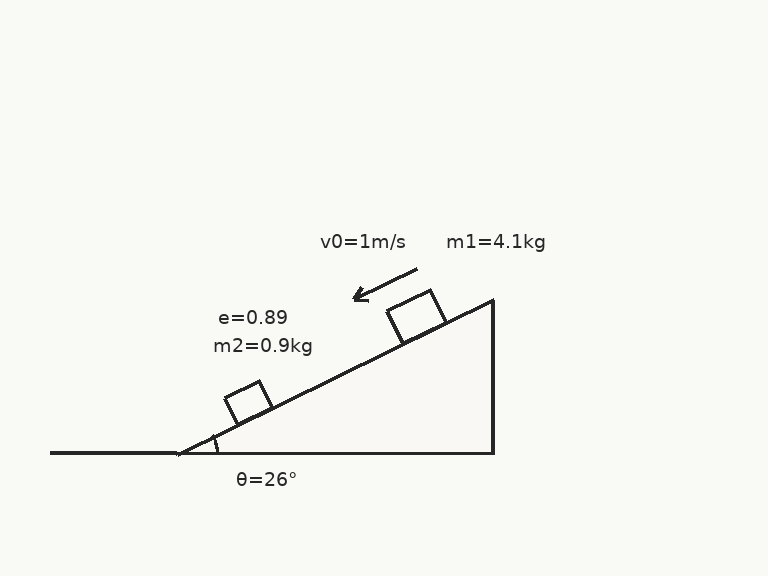block: (384, 288, 448, 345), (222, 379, 274, 426)
ramp: (175, 297, 494, 455)
